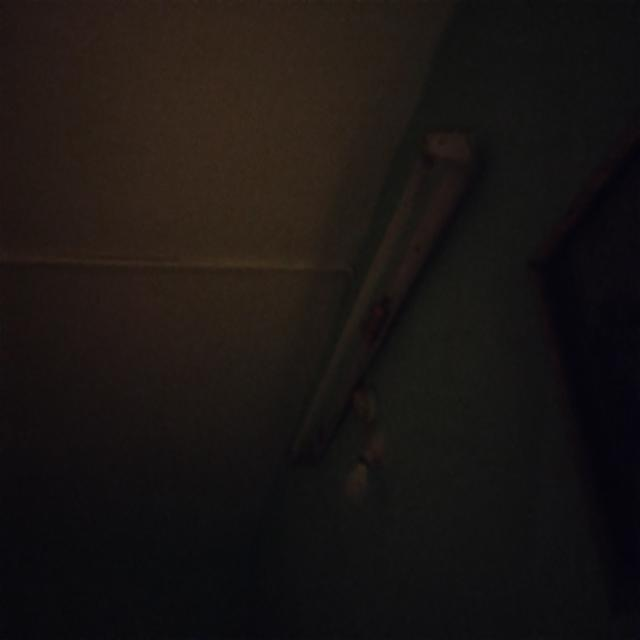tubelight_off: (281, 130, 485, 462)
